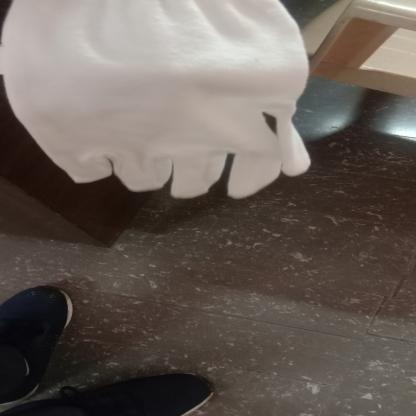gloved_hand: (2, 1, 318, 204)
